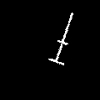double_crochet: (49, 13, 72, 64)
